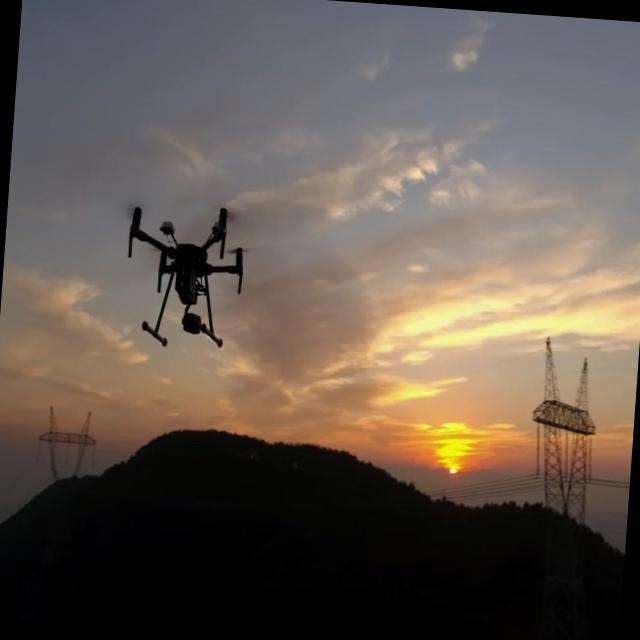drone: (120, 196, 251, 354)
